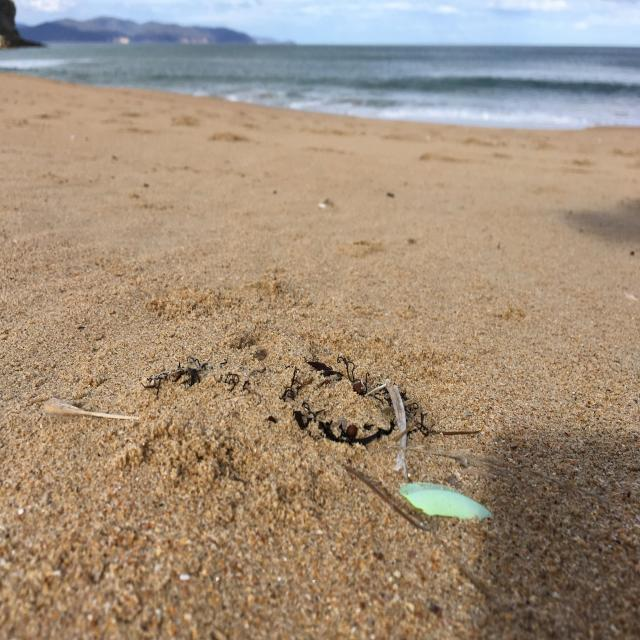Other plastic bottle: (398, 482, 493, 519)
